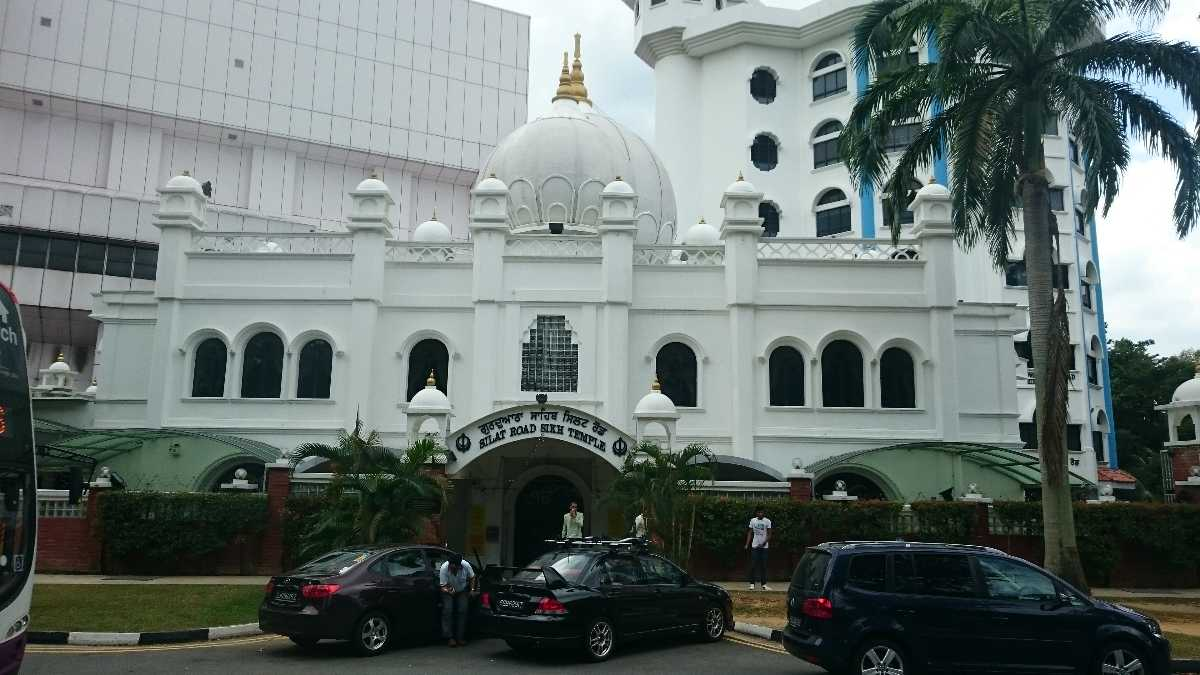Gurdwara: (88, 43, 988, 533)
